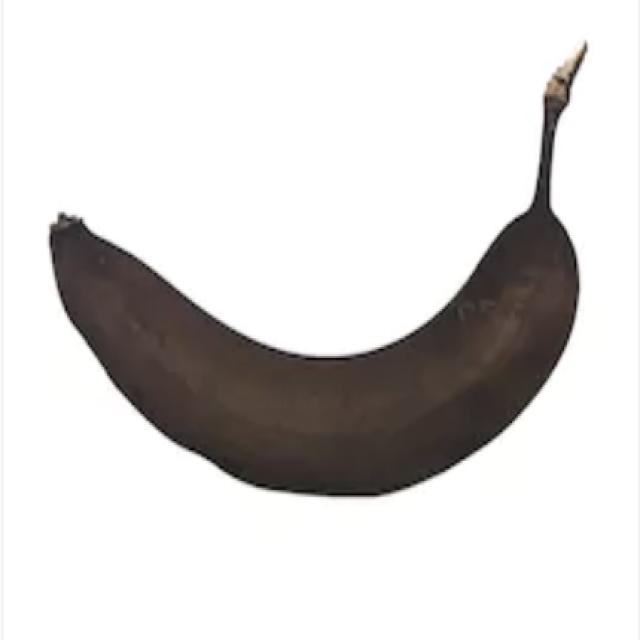Rotten: (41, 44, 606, 514)
